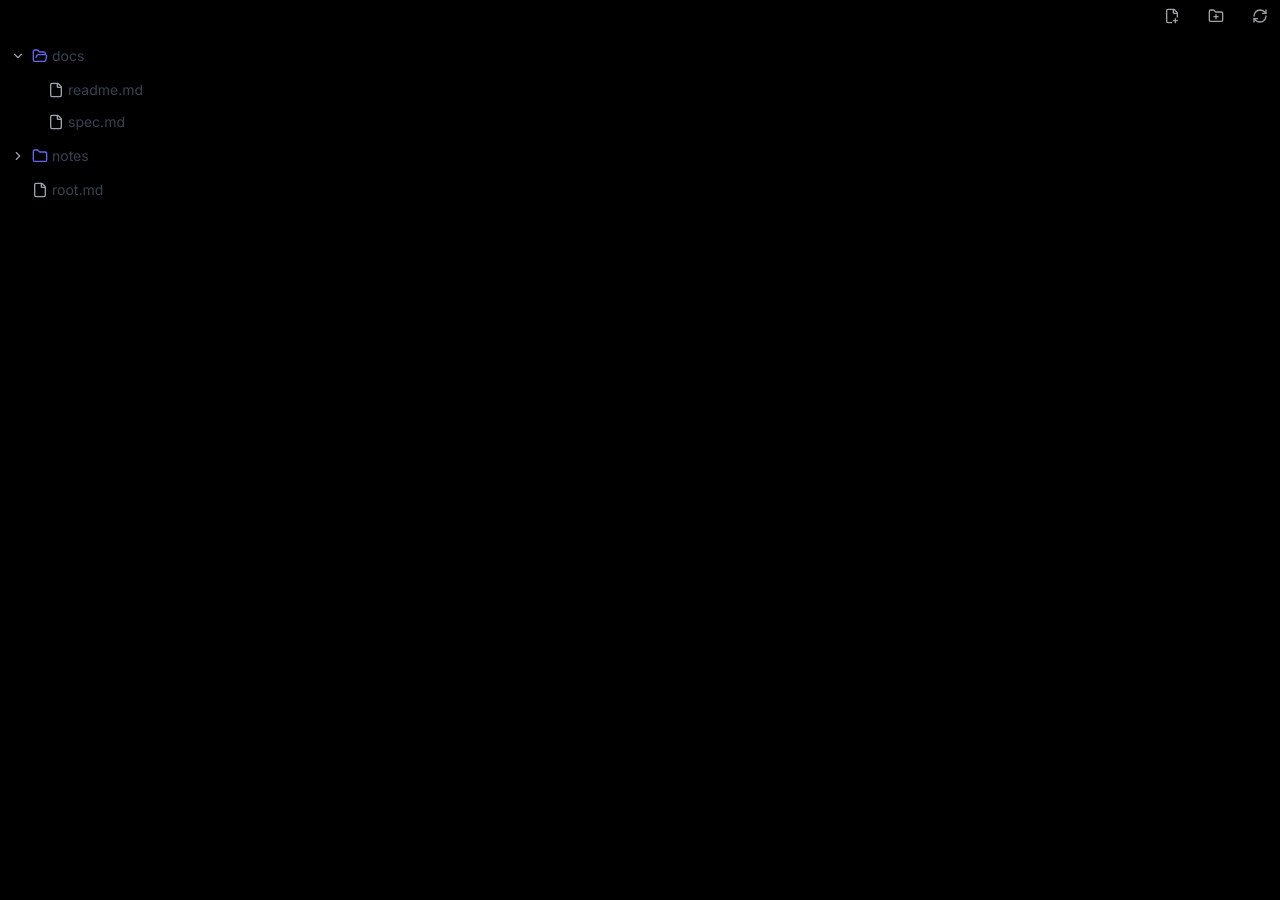
Test: FileTree › delete › opens confirmation modal for file deletion
Right-click the text "readme.md": (96, 90) x1=48 y1=81 x2=143 y2=98
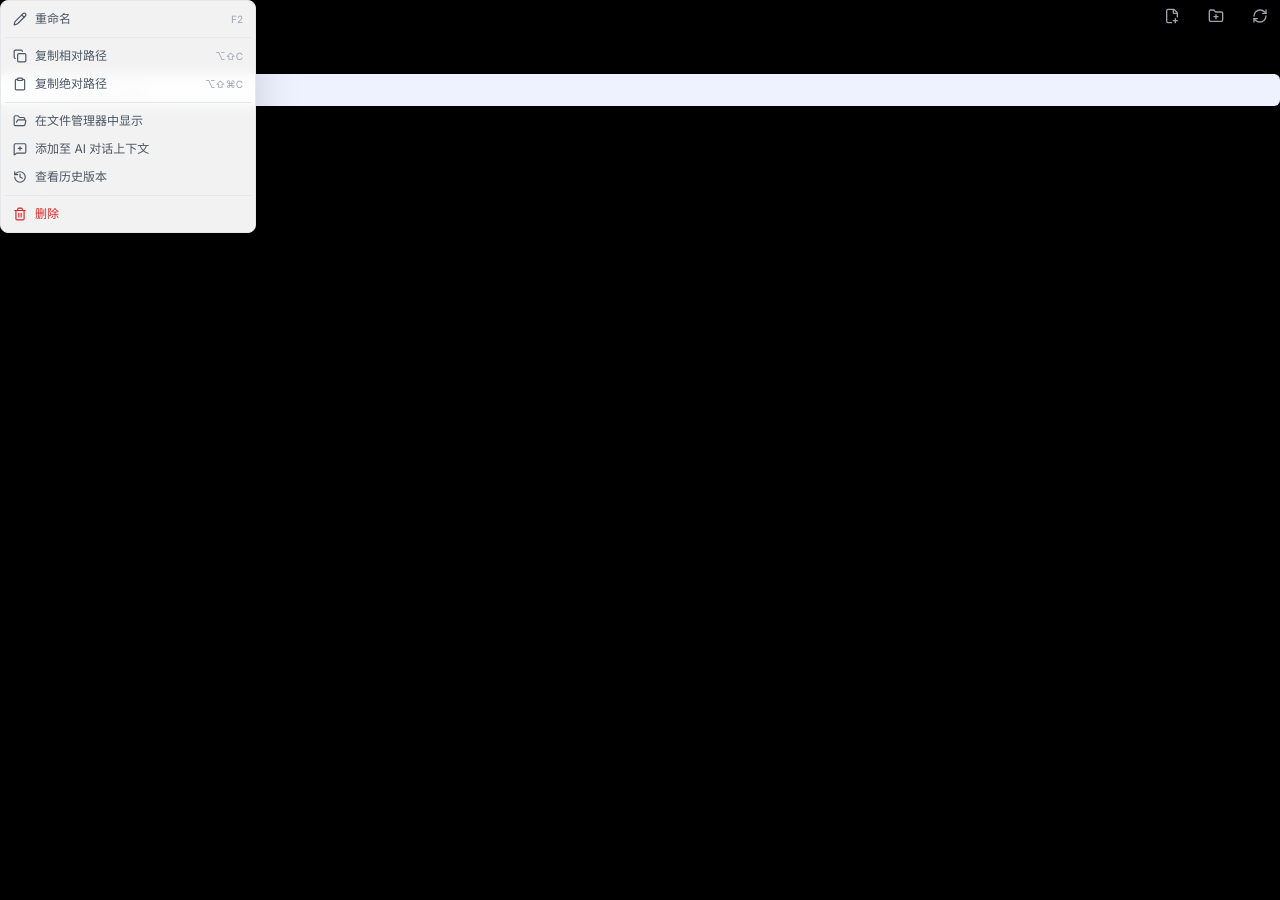
Click the menu item "删除": (128, 214) x1=5 y1=200 x2=251 y2=228
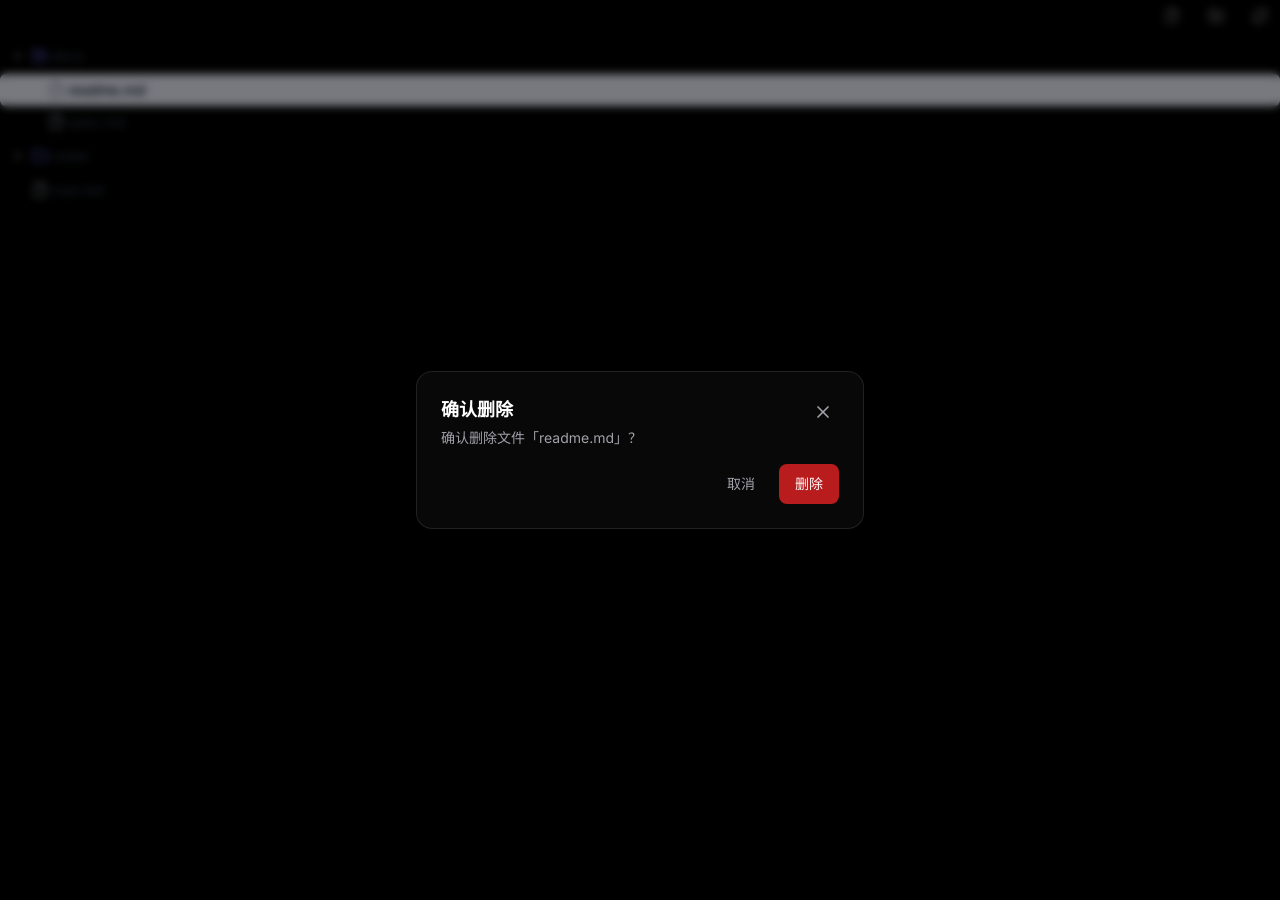
Result: the heading "确认删除" is shown at x1=441 y1=399 x2=513 y2=420
Result: the text "确认删除文件「readme.md」？" is shown at x1=441 y1=429 x2=642 y2=446
